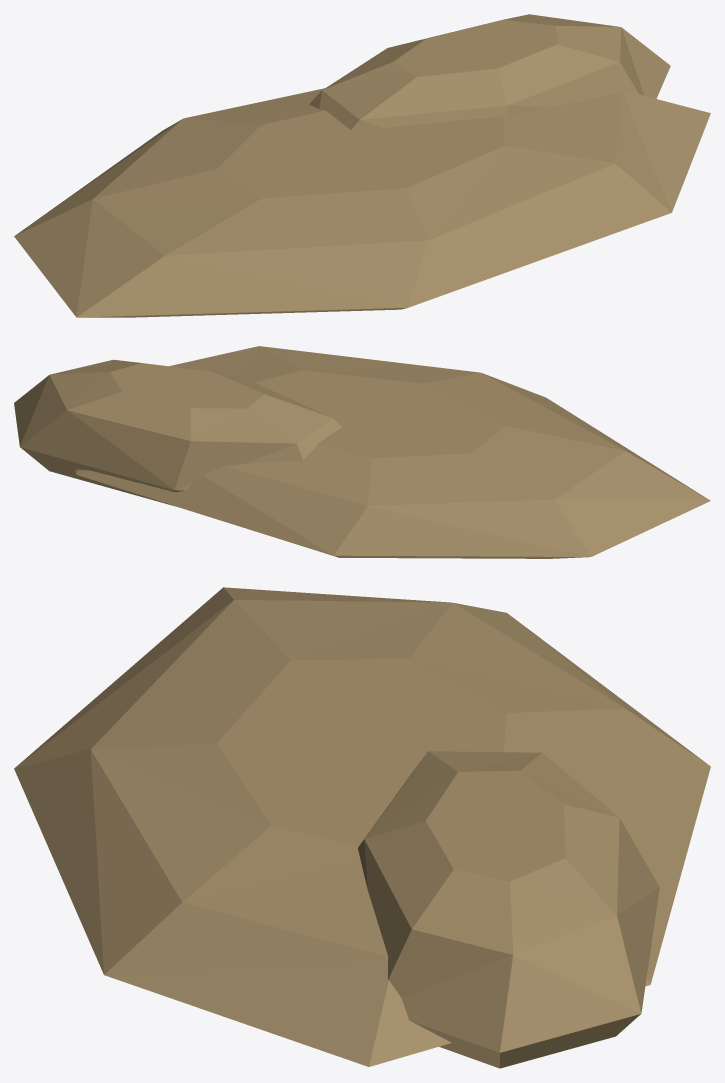
Rendered from sand-drift.glb.
The picture shows the model from 3 angles, top to bottom: view 1: azimuth 30°, elevation 25°; view 2: azimuth 150°, elevation 25°; view 3: azimuth 270°, elevation 25°; orthographic projection. The views are drawn at different scales.
Visible parts, largest first — view 1: sand-drift__body; view 2: sand-drift__body; view 3: sand-drift__body.
Boxes of the visible parts, box(x1,y1,x2,y2) form: sand-drift__body: box(14, 14, 710, 317); sand-drift__body: box(14, 346, 710, 558); sand-drift__body: box(14, 587, 710, 1068).
Size of the model in its own units: 2.19 by 0.3 by 1.33.
